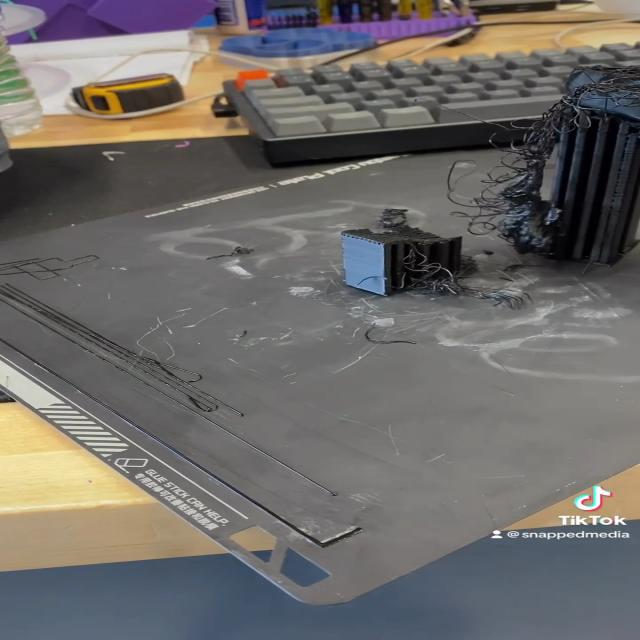spaghetti: (358, 73, 640, 304)
